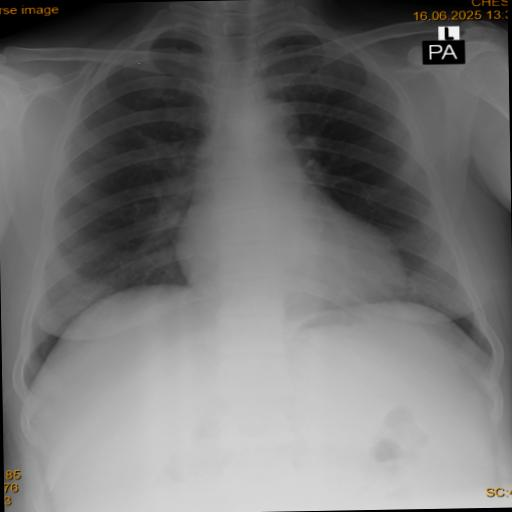kardiomegali: (14, 10, 512, 402)
